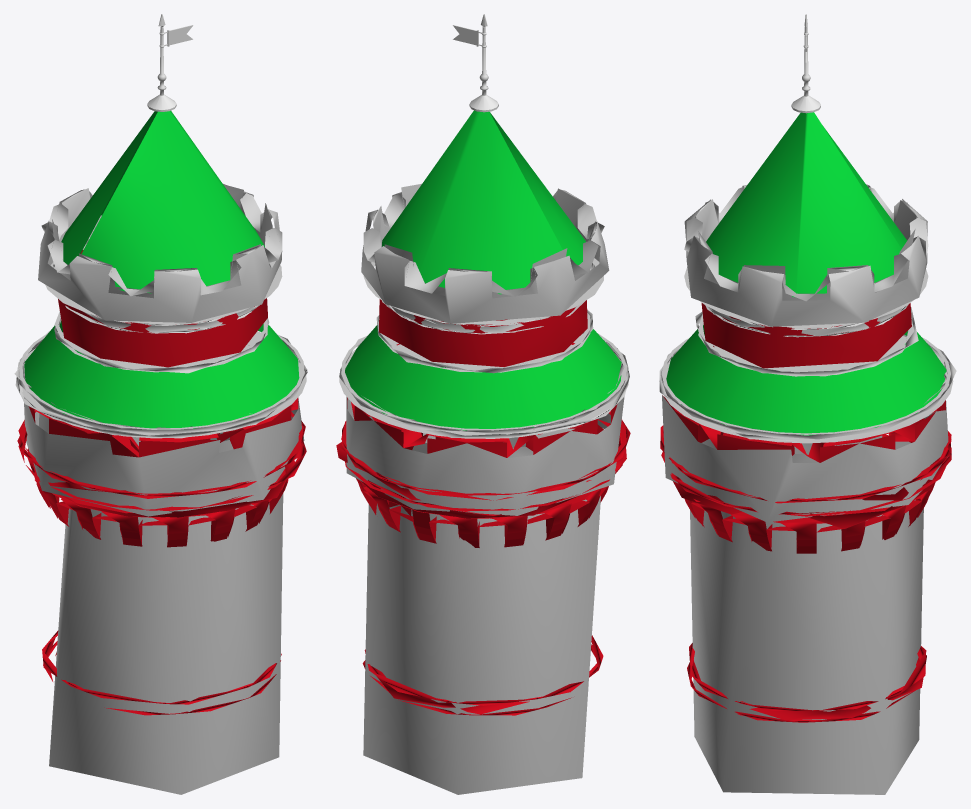
Rendered from Tower_Roff (2).fbx.
The picture shows the model from 3 angles, left to right: view 1: azimuth 30°, elevation 25°; view 2: azimuth 150°, elevation 25°; view 3: azimuth 270°, elevation 25°; orthographic projection.
Parts seen in each view (by area): view 1: Tower_1.003, Group_1.000, Group_4.007; view 2: Tower_1.003, Group_1.000, Group_4.007; view 3: Tower_1.003, Group_1.000, Group_4.007.
Boxes of the visible parts, x1,y1,x2,y2 form: Tower_1.003: [17, 397, 306, 794]; Group_1.000: [14, 110, 307, 438]; Group_4.007: [147, 14, 193, 111]; Tower_1.003: [336, 342, 630, 794]; Group_1.000: [339, 110, 629, 438]; Group_4.007: [453, 14, 498, 112]; Tower_1.003: [660, 346, 951, 794]; Group_1.000: [659, 112, 956, 443]; Group_4.007: [791, 14, 820, 113].
Size of the model in its own units: 835 by 2289 by 833.
